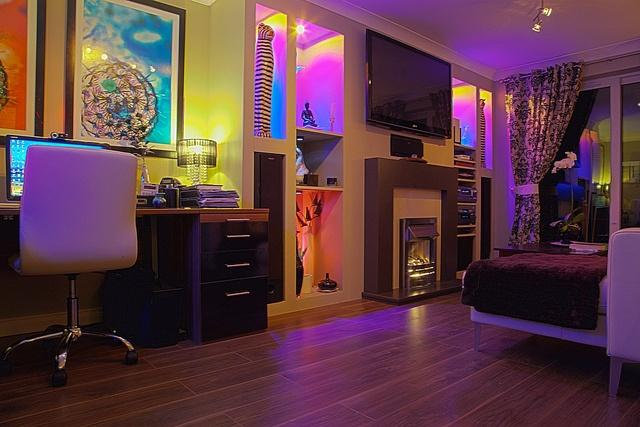AIO PC-Monitor-TV: (363, 26, 451, 141)
Filing Cabinet: (197, 212, 269, 345)
Kursi: (0, 144, 140, 387)
